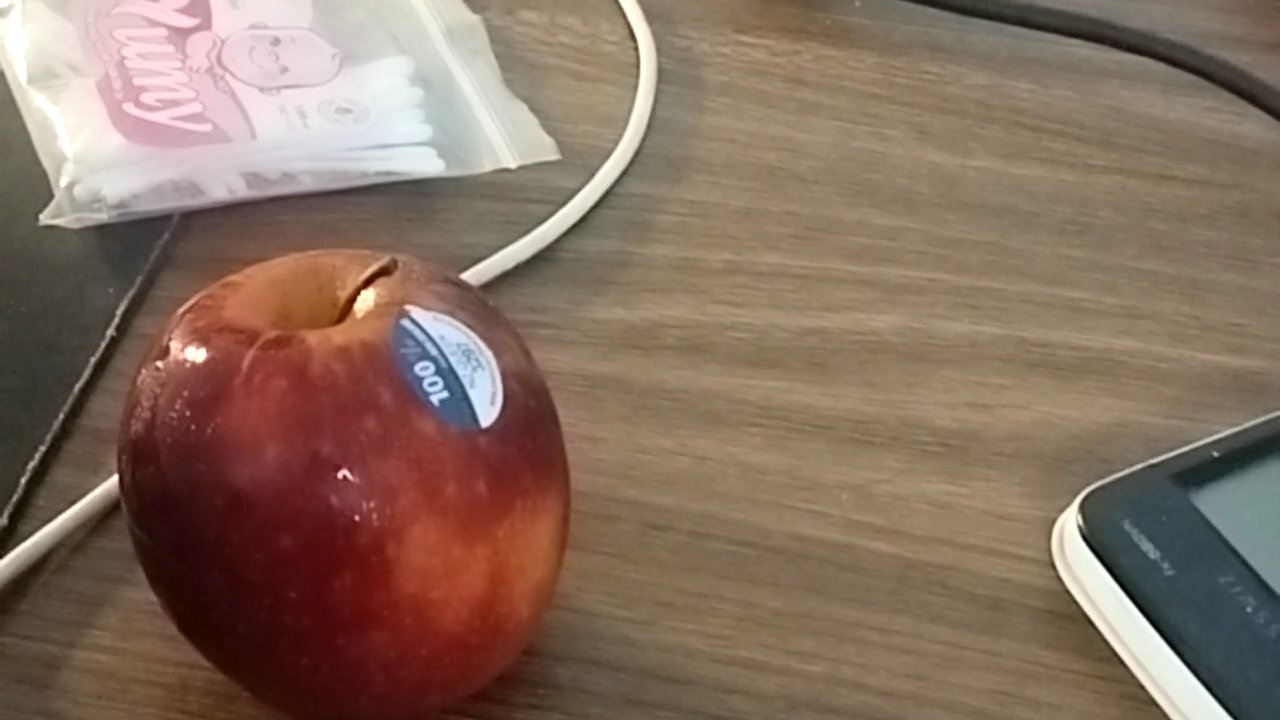apple_rotten: (111, 237, 585, 717)
orange_rotten: (327, 1, 1279, 709)
